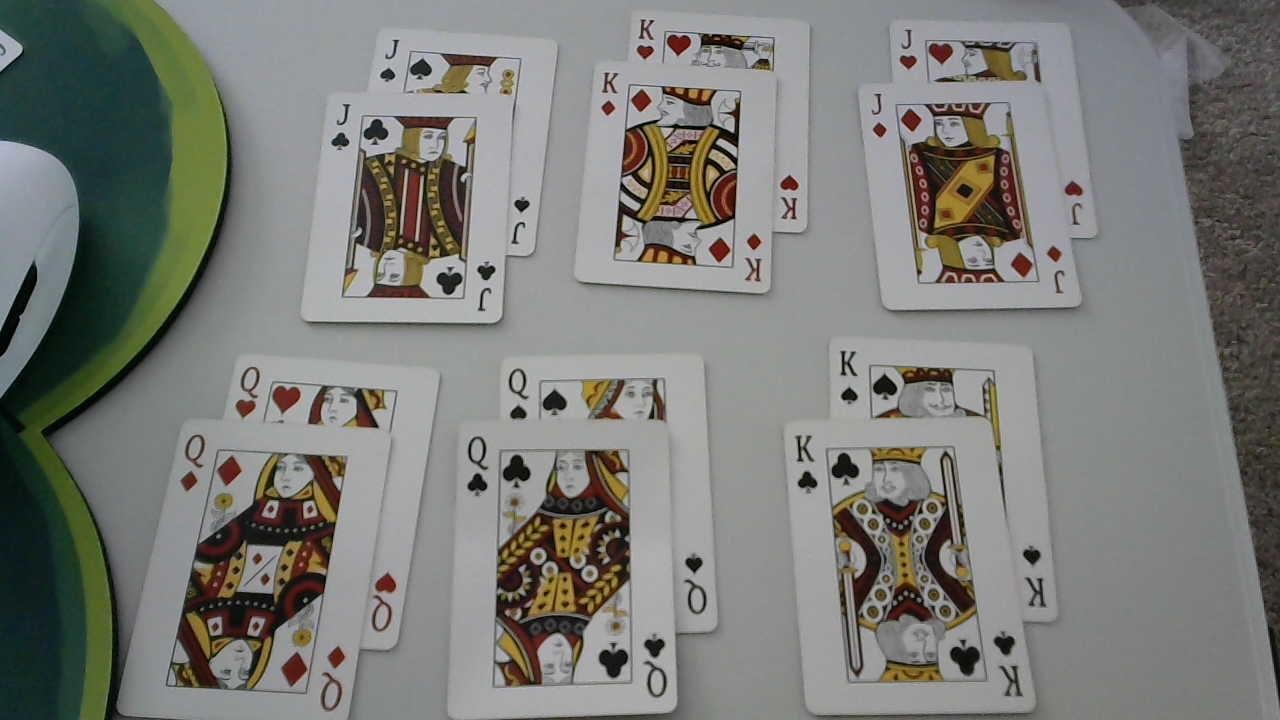JC: (475, 257, 497, 313), (330, 100, 352, 153)
JD: (1041, 240, 1073, 299), (860, 84, 891, 140)
JH: (1059, 173, 1087, 231), (899, 21, 920, 71)
JS: (507, 193, 536, 247), (376, 33, 401, 83)
KC: (991, 627, 1029, 701), (790, 431, 823, 498)
KD: (741, 228, 766, 283), (597, 69, 623, 118)
KH: (772, 171, 806, 227), (632, 13, 657, 67)
KS: (1017, 540, 1049, 614), (836, 349, 861, 408)
QC: (639, 629, 672, 703), (463, 434, 491, 499)
QD: (314, 644, 350, 713), (176, 431, 207, 493)
QH: (370, 570, 396, 633), (230, 366, 260, 419)
QS: (678, 550, 712, 618), (506, 364, 536, 420)
